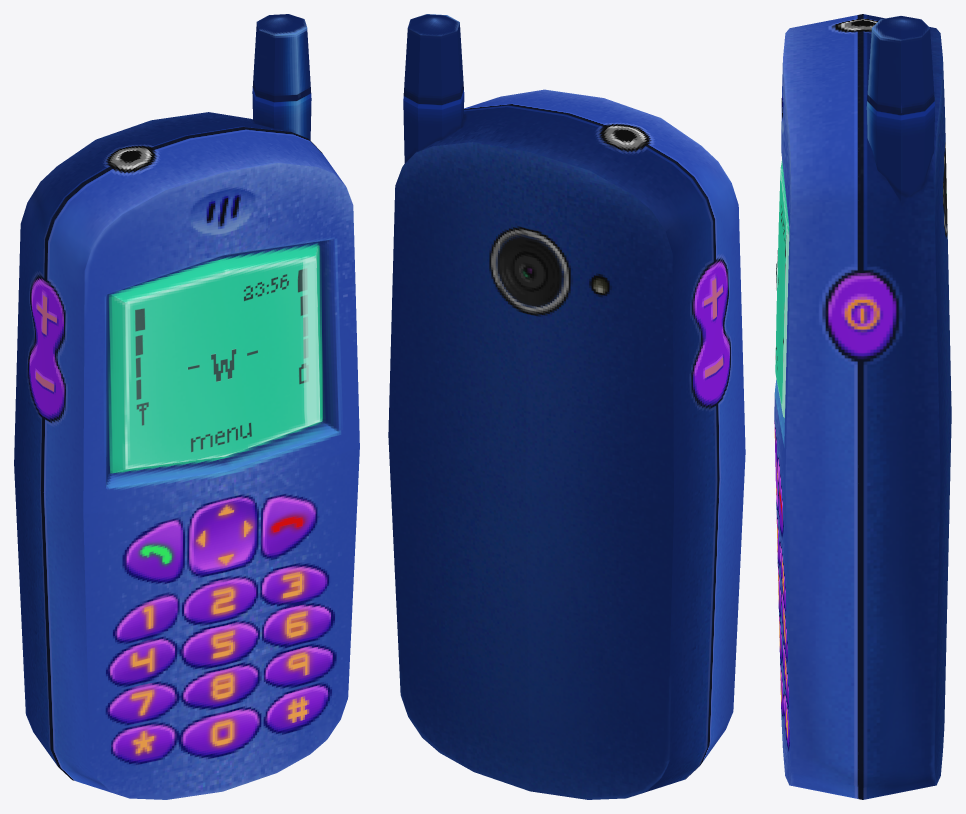
The model's file is phone_b77da5b9052e.glb.
3 renders of one model, left to right at view 1: azimuth 30°, elevation 25°; view 2: azimuth 150°, elevation 25°; view 3: azimuth 270°, elevation 25°, orthographic. The views are drawn at different scales.
Visible parts, largest first — view 1: P_cellphone; view 2: P_cellphone; view 3: P_cellphone.
Part boxes in pixels (bbox=[...]): P_cellphone: bbox=[14, 14, 359, 799]; P_cellphone: bbox=[388, 14, 745, 799]; P_cellphone: bbox=[774, 14, 951, 799].
Bounding box in the file's own units: 0.568 × 1.33 × 0.2673.
2 materials, 2 textured.
